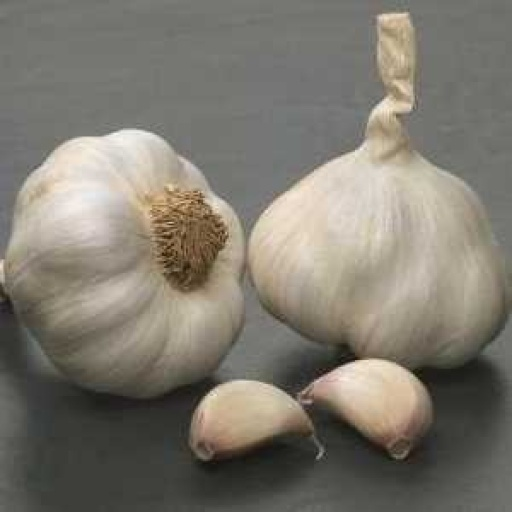Knoblauch: (248, 12, 507, 371), (1, 129, 247, 397)
